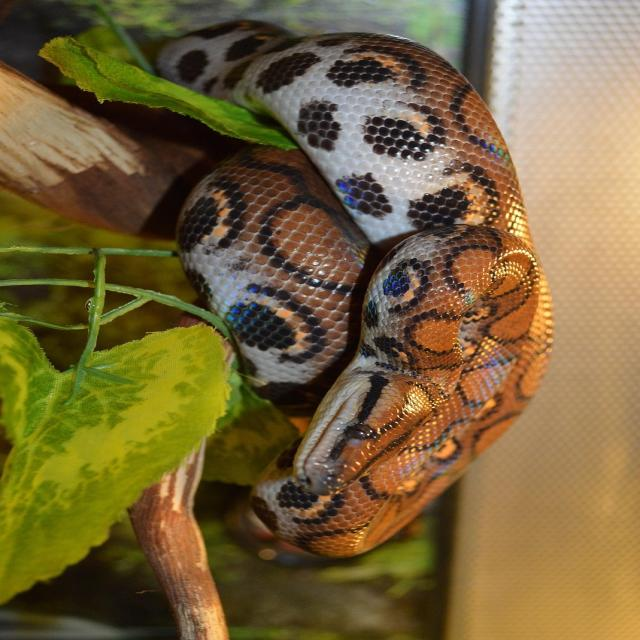Non-Venomous: (294, 328, 444, 510)
